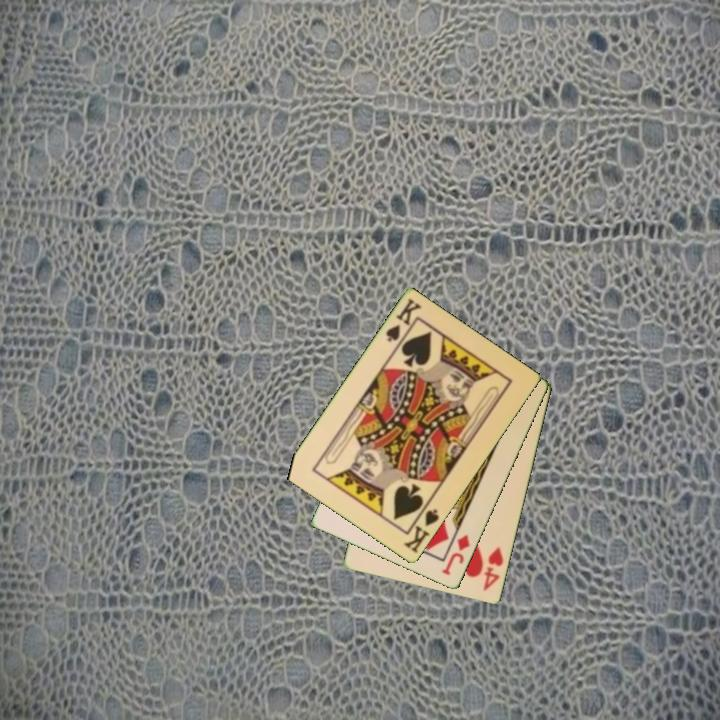4h: (480, 543, 507, 594)
Jd: (438, 531, 473, 578)
Ks: (382, 295, 425, 345), (400, 506, 442, 556)
